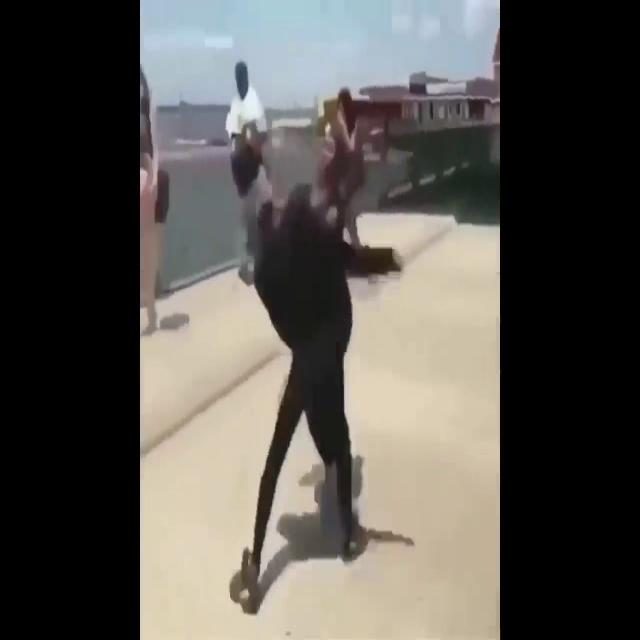Violence: (230, 156, 393, 583)
